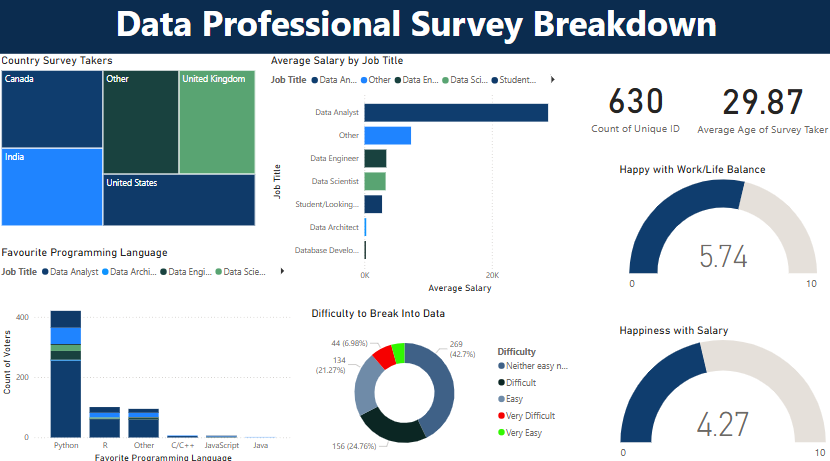

The page's visual inventory and layout, read from the dashboard file:
{"tool":"powerbi","page":{"name":"Page 1","canvas":[1280,720],"ordinal":0},"visuals":[{"type":"textbox","box":[0,0,1279.8,90.1],"z":0},{"type":"card","fields":{"Values":["CountNonNull(Data Professional Survey.Unique ID)"]},"box":[893.2,91.4,167.2,148.9],"z":1000},{"type":"card","fields":{"Values":["Avg(Data Professional Survey.Q10 - Current Age)"]},"box":[1060.4,91.4,219.4,151.5],"z":2000},{"type":"barChart","title":"Average Salary by Job Title","fields":{"Category":["Data Professional Survey.Q1 - Which Title Best Fits your Current Role?.1"],"Y":["Sum(Data Professional Survey.Average Salary)"],"Series":["Data Professional Survey.Q1 - Which Title Best Fits your Current Role?.1"]},"box":[412.6,90.9,456.3,370.5],"z":3000},{"type":"columnChart","title":"Favourite Programming Language","fields":{"Category":["Data Professional Survey.Q5 - Favorite Programming Language.1"],"Y":["CountNonNull(Data Professional Survey.Unique ID)"],"Series":["Data Professional Survey.Q1 - Which Title Best Fits your Current Role?.1"]},"box":[0,383.9,454.7,336.8],"z":4000},{"type":"treemap","title":"Country Survey Takers","fields":{"Values":["Count(Data Professional Survey.Q11 - Which Country do you live in?.1)"],"Group":["Data Professional Survey.Q11 - Which Country do you live in?.1"]},"box":[0,90.9,399.1,267.7],"z":5000},{"type":"gauge","title":"Happiness with Salary","fields":{"Y":["Avg(Data Professional Survey.Q6 - How Happy are you in your Current Position with the following? (Salary))"],"MinValue":["Min(Data Professional Survey.Q6 - How Happy are you in your Current Position with the following? (Salary))1"],"MaxValue":["Max(Data Professional Survey.Q6 - How Happy are you in your Current Position with the following? (Salary))2"]},"box":[946.4,503.5,326.7,217.2],"z":6000},{"type":"gauge","title":"Happy with Work/Life Balance","fields":{"Y":["Avg(Data Professional Survey.Q6 - How Happy are you in your Current Position with the following? (Work/Life Balance))"],"MinValue":["Min(Data Professional Survey.Q6 - How Happy are you in your Current Position with the following? (Work/Life Balance))1"],"MaxValue":["Max(Data Professional Survey.Q6 - How Happy are you in your Current Position with the following? (Work/Life Balance))2"]},"box":[946.4,257.6,326.7,203.8],"z":7000},{"type":"donutChart","title":"Difficulty to Break Into Data","fields":{"Category":["Data Professional Survey.Q7 - How difficult was it for you to break into Data?"],"Y":["CountNonNull(Data Professional Survey.Q7 - How difficult was it for you to break into Data?)"]},"box":[474.9,478.2,417.6,242.5],"z":8000}]}

Visuals, with their boxes in screenshot pixels (x1, y1, x2, y2), scaled from the page's 1280x720 canvas onto the 830x461 screenshot:
textbox: rect(0, 0, 829, 58)
card - CountNonNull(Data Professional Survey.Unique ID): rect(579, 59, 688, 154)
card - Avg(Data Professional Survey.Q10 - Current Age): rect(688, 59, 829, 156)
"Average Salary by Job Title" barChart: rect(268, 58, 563, 295)
"Favourite Programming Language" columnChart: rect(0, 246, 295, 460)
"Country Survey Takers" treemap: rect(0, 58, 259, 230)
"Happiness with Salary" gauge: rect(614, 322, 826, 460)
"Happy with Work/Life Balance" gauge: rect(614, 165, 826, 295)
"Difficulty to Break Into Data" donutChart: rect(308, 306, 579, 460)
